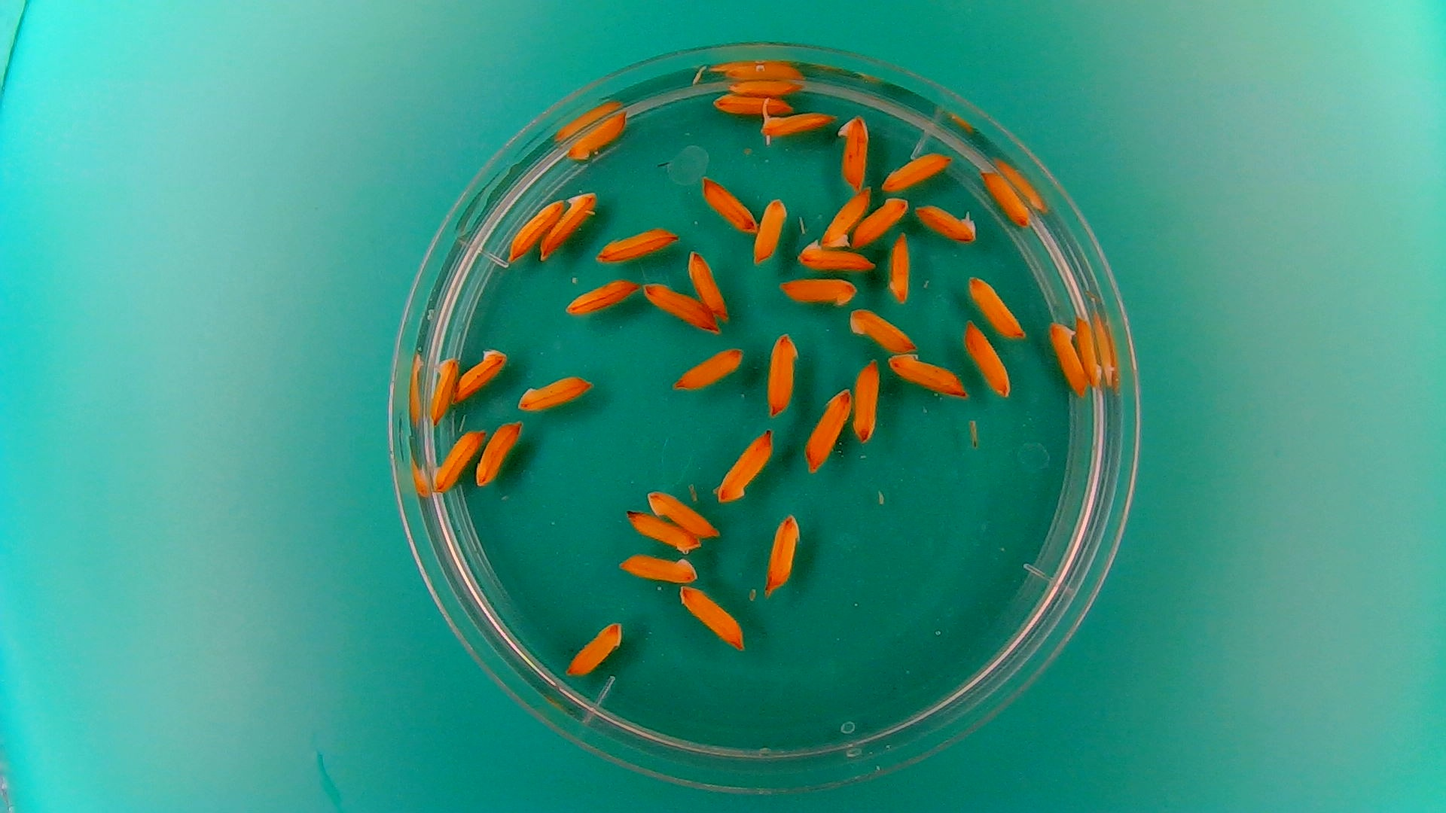no: (677, 582, 749, 652), (713, 425, 776, 505), (803, 385, 854, 473), (538, 186, 599, 257), (884, 349, 970, 398), (641, 279, 719, 333), (962, 318, 1012, 399), (966, 274, 1026, 341), (430, 425, 486, 494), (645, 488, 721, 538), (670, 341, 746, 390), (564, 617, 625, 678), (508, 195, 564, 261), (699, 172, 759, 233), (763, 509, 804, 597), (624, 507, 698, 555), (474, 418, 525, 487), (593, 223, 680, 263), (566, 108, 630, 162), (452, 344, 509, 403), (1046, 318, 1089, 396), (847, 306, 918, 353), (979, 167, 1033, 228), (819, 185, 870, 248), (850, 194, 909, 248), (686, 247, 729, 320), (515, 372, 593, 412), (764, 328, 799, 417), (880, 148, 952, 191), (563, 277, 638, 317), (616, 550, 699, 584), (776, 274, 859, 308), (795, 240, 877, 273), (851, 357, 882, 444), (1072, 311, 1104, 395), (837, 112, 871, 190), (752, 193, 789, 263), (428, 354, 459, 423), (710, 92, 793, 117), (721, 77, 810, 100), (887, 231, 913, 306)
yes: (914, 201, 978, 243), (757, 108, 836, 142)
